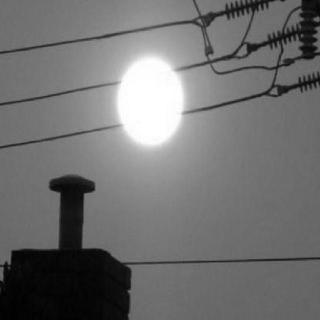other: (110, 47, 198, 163)
